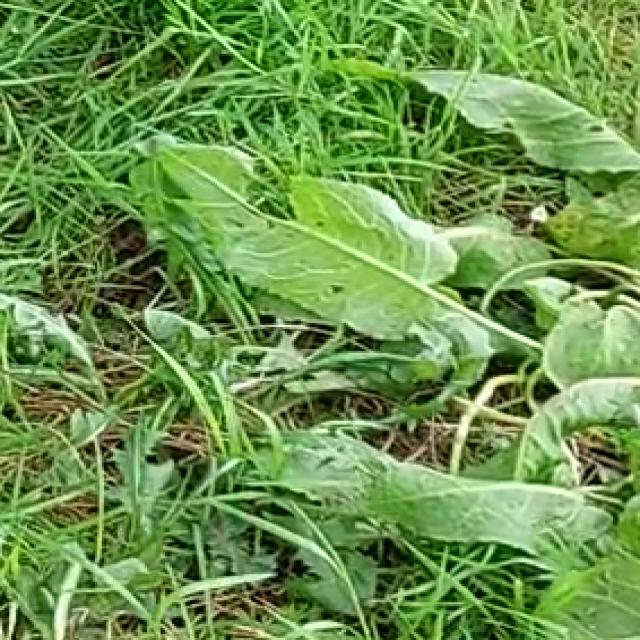organic waste: (86, 0, 640, 590)
